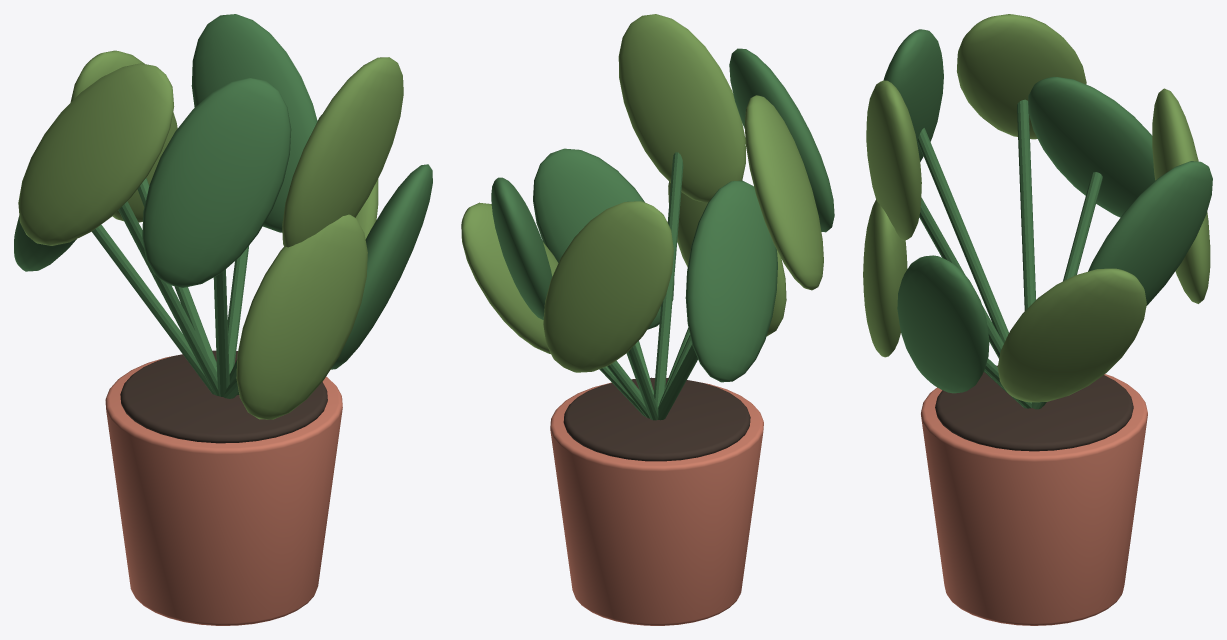
The model's file is plant.glb.
3 renders of one model, left to right at view 1: azimuth 30°, elevation 25°; view 2: azimuth 150°, elevation 25°; view 3: azimuth 270°, elevation 25°, orthographic. The views are drawn at different scales.
Parts seen in each view (by area): view 1: Ceramic planter, Satin leaf.005, Satin leaf.002, Satin leaf, Satin leaf.008, Potting soil, Satin leaf.001, Satin leaf.003, Leaf stem.007, Leaf stem.002, Satin leaf.004, Leaf stem.005 (+4 smaller); view 2: Ceramic planter, Satin leaf.004, Satin leaf.008, Satin leaf.007, Potting soil, Satin leaf.002, Satin leaf.003, Satin leaf.006, Satin leaf.005, Satin leaf.001, Leaf stem.008, Satin leaf (+3 smaller); view 3: Ceramic planter, Satin leaf.006, Satin leaf.007, Potting soil, Satin leaf.003, Satin leaf.002, Satin leaf.001, Satin leaf.008, Satin leaf, Satin leaf.004, Satin leaf.005, Leaf stem.005 (+3 smaller).
Part boxes in pixels (x1,y1,x2,y2): Ceramic planter: (105,354,342,625); Satin leaf.005: (142,77,291,287); Satin leaf.002: (18,63,174,245); Satin leaf: (236,214,367,419); Satin leaf.008: (282,57,403,247); Potting soil: (120,350,327,443); Satin leaf.001: (191,14,317,232); Satin leaf.003: (331,164,432,369); Leaf stem.007: (92,224,214,394); Leaf stem.002: (118,201,219,396); Satin leaf.004: (70,50,177,222); Leaf stem.005: (213,269,229,396); Ceramic planter: (550,381,763,625); Satin leaf.004: (543,201,673,372); Satin leaf.008: (618,14,745,202); Satin leaf.007: (685,180,777,382); Potting soil: (563,377,750,461); Satin leaf.002: (744,95,823,290); Satin leaf.003: (533,148,674,329); Satin leaf.006: (461,202,558,353); Satin leaf.005: (729,48,834,232); Satin leaf.001: (491,177,552,319); Leaf stem.008: (653,152,683,407); Satin leaf: (668,181,786,336); Ceramic planter: (921,374,1147,625); Satin leaf.006: (997,268,1146,402); Satin leaf.007: (1028,76,1155,217); Potting soil: (935,365,1133,451); Satin leaf.003: (897,255,989,393); Satin leaf.002: (957,14,1086,139); Satin leaf.001: (1088,161,1212,305); Satin leaf.008: (866,80,921,240); Satin leaf: (863,199,907,357); Satin leaf.004: (1152,88,1210,303); Satin leaf.005: (883,29,943,161); Leaf stem.005: (917,128,1008,343).
Size of the model in its own units: 0.9988 by 1.5 by 0.8804.
